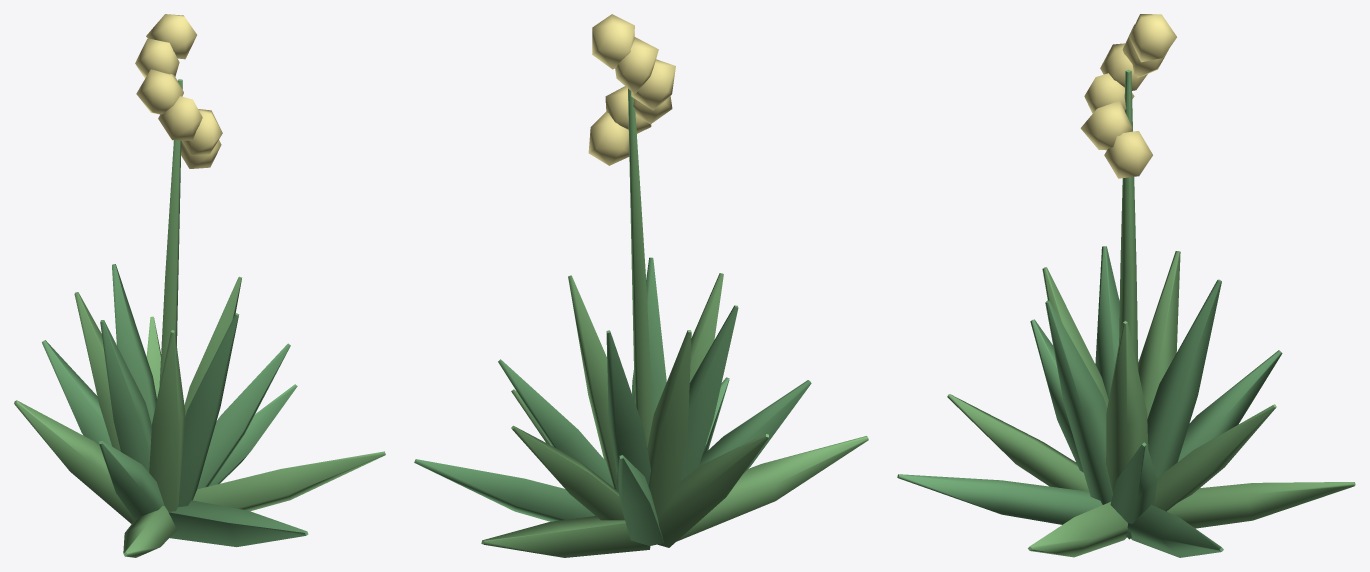
The model's file is agave_1.glb.
3 renders of one model, left to right at view 1: azimuth 30°, elevation 25°; view 2: azimuth 150°, elevation 25°; view 3: azimuth 270°, elevation 25°, orthographic. The views are drawn at different scales.
Visible parts, largest first — view 1: G_agave_1; view 2: G_agave_1; view 3: G_agave_1.
Boxes of the visible parts, x1,y1,x2,y2 form: G_agave_1: [14, 14, 385, 557]; G_agave_1: [414, 14, 868, 557]; G_agave_1: [897, 14, 1355, 557].
Bounding box in the file's own units: 1.85 × 2.87 × 2.25.
